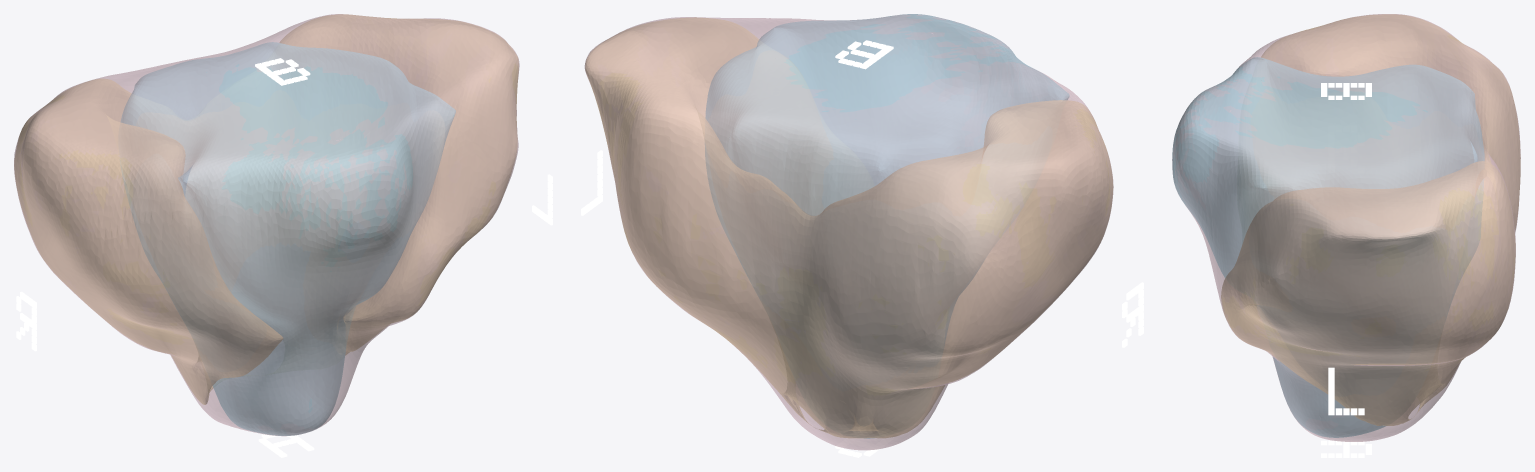
The picture shows the model from 3 angles, left to right: view 1: azimuth 30°, elevation 25°; view 2: azimuth 150°, elevation 25°; view 3: azimuth 270°, elevation 25°; orthographic projection. The views are drawn at different scales.
Visible parts, largest first — view 1: prostate_gland, transition_zone, peripheral_zone, pv_ar_marker_B, pv_ar_marker_R, pv_ar_marker_A; view 2: prostate_gland, peripheral_zone, transition_zone, pv_ar_marker_B, pv_ar_marker_R, pv_ar_marker_A; view 3: prostate_gland, peripheral_zone, transition_zone, pv_ar_marker_B, pv_ar_marker_L, pv_ar_marker_A.
Part boxes in pixels (<box>): prostate_gland: <box>14,14,519,436</box>; transition_zone: <box>120,42,455,435</box>; peripheral_zone: <box>14,14,518,404</box>; pv_ar_marker_B: <box>255,58,310,85</box>; pv_ar_marker_R: <box>16,291,36,351</box>; pv_ar_marker_A: <box>258,434,314,457</box>; prostate_gland: <box>584,14,1113,450</box>; peripheral_zone: <box>585,17,1113,437</box>; transition_zone: <box>705,14,1069,438</box>; pv_ar_marker_B: <box>835,40,893,69</box>; pv_ar_marker_R: <box>1122,282,1143,347</box>; pv_ar_marker_A: <box>835,437,893,457</box>; prostate_gland: <box>1172,14,1520,441</box>; peripheral_zone: <box>1221,14,1520,425</box>; transition_zone: <box>1172,57,1484,437</box>; pv_ar_marker_B: <box>1321,83,1371,99</box>; pv_ar_marker_L: <box>1328,367,1364,415</box>; pv_ar_marker_A: <box>1321,440,1371,457</box>.
Size of the model in its own units: 0.0549 by 0.0379 by 0.0333.
